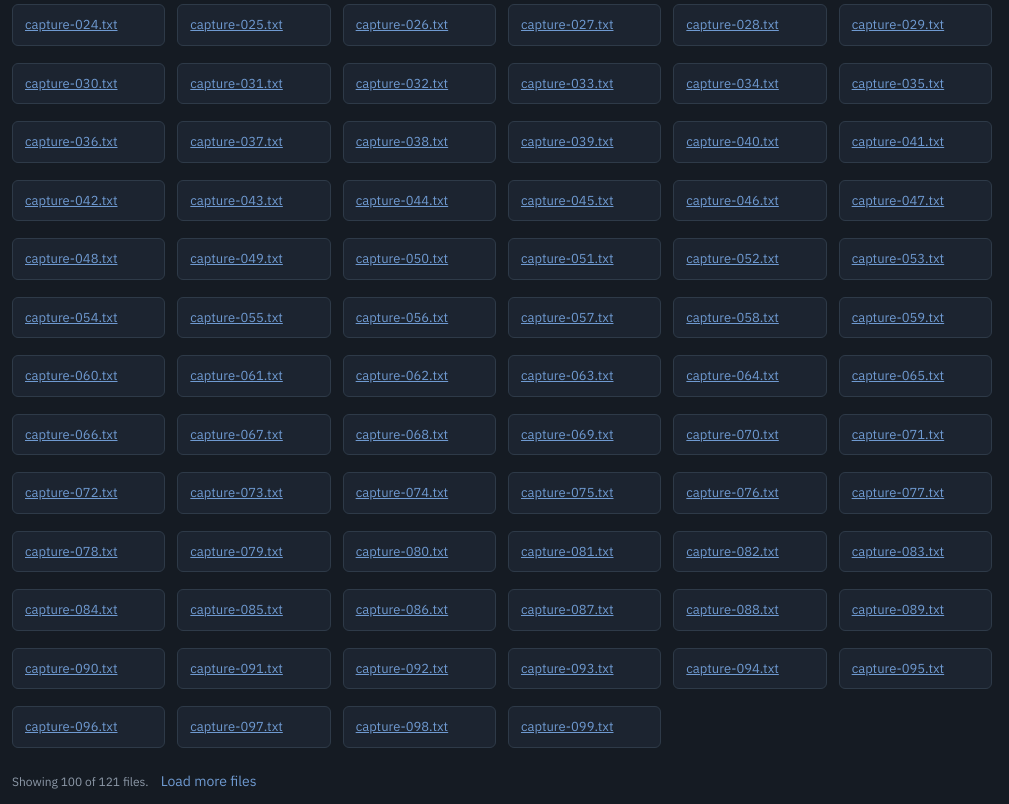
Test: Evidence › reloads page one when files are removed between pages
The image size is (1009, 804).
(page scrolled)
expect the text "Showing 100 of 121 files." is shown: met, box [12, 772, 149, 790]
What coordinates should you click on to do the following:
click the button "Load more files"
I would click on:
 (209, 782)
Its box is [161, 760, 257, 803].
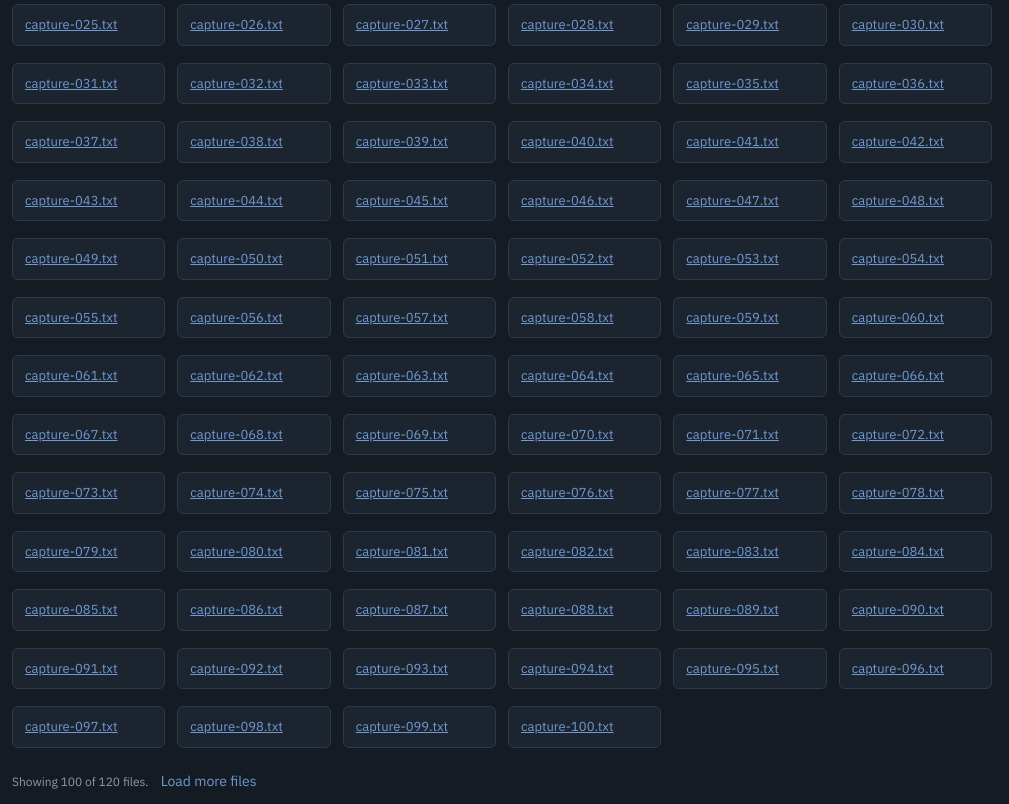
expect the text "Showing 100 of 120 files." is shown: met, box [12, 772, 149, 790]
What coordinates should you click on to do the following:
click the button "Load more files"
I would click on:
 (209, 782)
Its box is [161, 760, 257, 803].
(page scrolled)
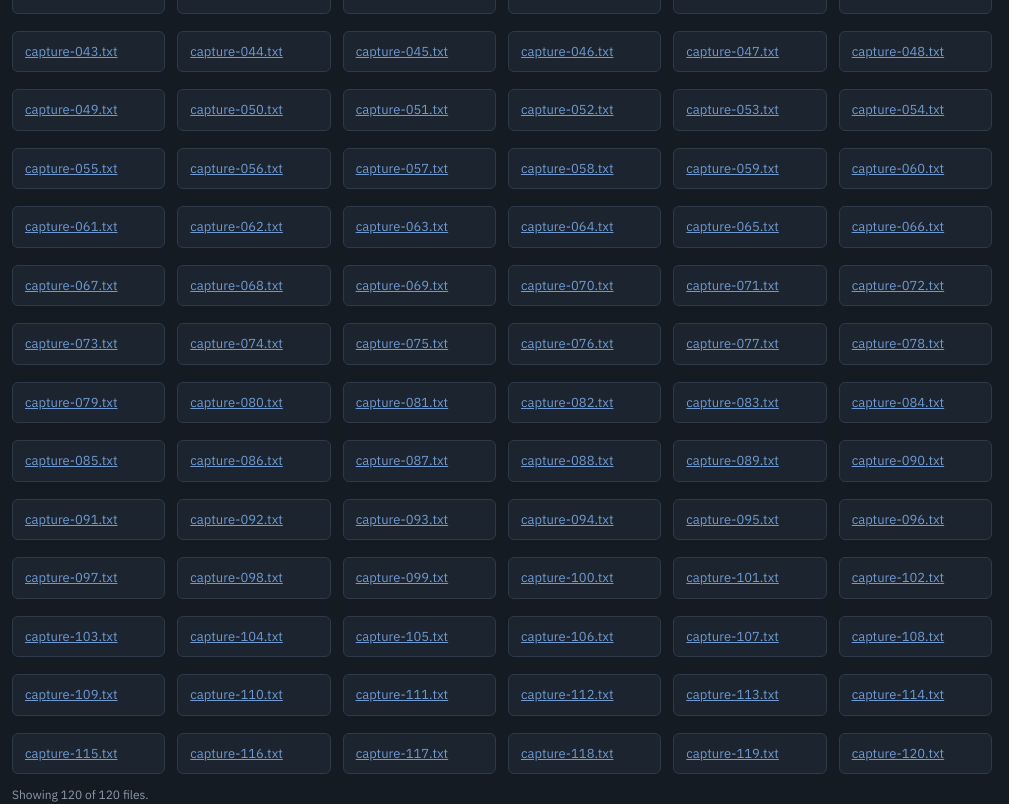
expect the text "Showing 120 of 120 files." is shown: met, box [12, 786, 149, 803]
